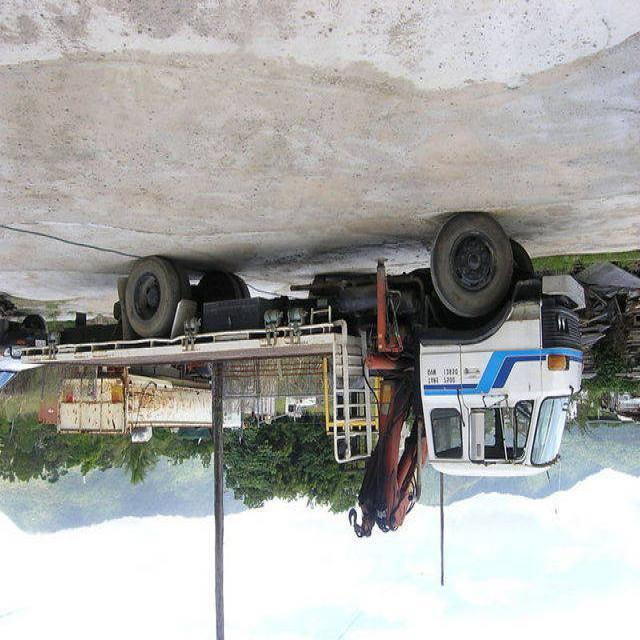truck: (18, 214, 584, 546)
